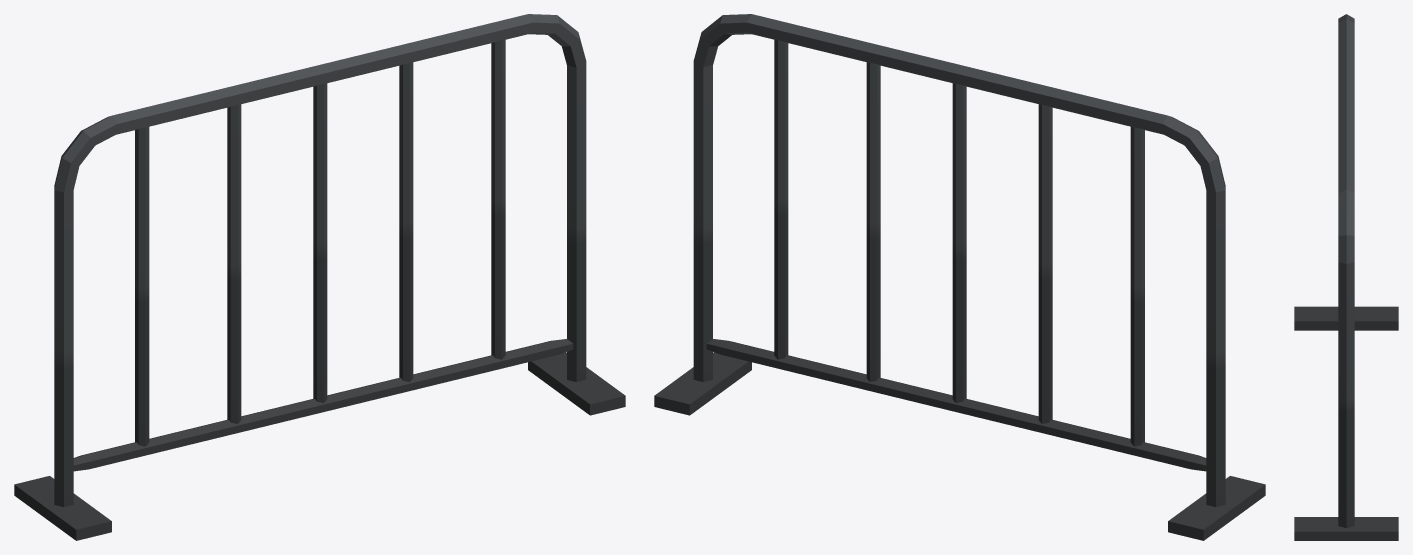
The model's file is SM_Prop_Barricade_01.glb.
The picture shows the model from 3 angles, left to right: view 1: azimuth 30°, elevation 25°; view 2: azimuth 150°, elevation 25°; view 3: azimuth 270°, elevation 25°; orthographic projection. The views are drawn at different scales.
Parts seen in each view (by area): view 1: SM_Prop_Barricade_01; view 2: SM_Prop_Barricade_01; view 3: SM_Prop_Barricade_01.
Boxes of the visible parts, x1=… form: SM_Prop_Barricade_01: x1=14, y1=14, x2=625, y2=540; SM_Prop_Barricade_01: x1=654, y1=14, x2=1265, y2=540; SM_Prop_Barricade_01: x1=1294, y1=14, x2=1398, y2=540.
Bounding box in the file's own units: 179 × 120 × 35.08.
Materials: 1 (1 with a texture image).
